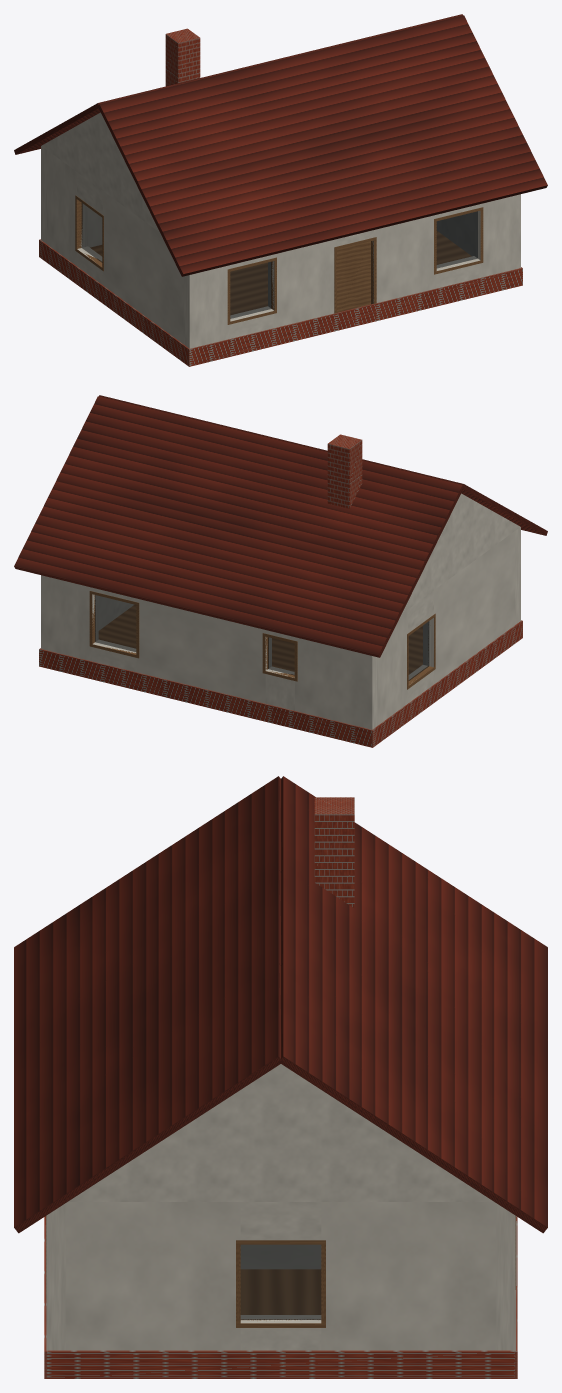
Rendered from house_L1.glb.
The picture shows the model from 3 angles, top to bottom: view 1: azimuth 30°, elevation 25°; view 2: azimuth 150°, elevation 25°; view 3: azimuth 270°, elevation 25°; orthographic projection. The views are drawn at different scales.
Visible parts, largest first — view 1: house:roof, house:plaster, house:brick, house:frames, house:glass; view 2: house:roof, house:plaster, house:brick, house:frames, house:glass; view 3: house:roof, house:plaster, house:brick, house:glass, house:frames.
Part boxes in pixels (x1,y1,x2,y2): house:roof: (14,14,547,276); house:plaster: (41,112,520,348); house:brick: (39,28,522,366); house:frames: (75,195,483,324); house:glass: (81,203,477,318); house:roof: (14,395,547,657); house:plaster: (41,493,520,729); house:brick: (39,434,522,747); house:frames: (89,591,435,689); house:glass: (95,595,429,680); house:roof: (14,776,547,1233); house:plaster: (46,1064,515,1350); house:brick: (44,797,517,1378); house:glass: (240,1244,321,1319); house:frames: (46,1216,515,1327).
Size of the model in its own units: 9.9 by 6.3 by 7.97.
5 materials, 4 textured.
